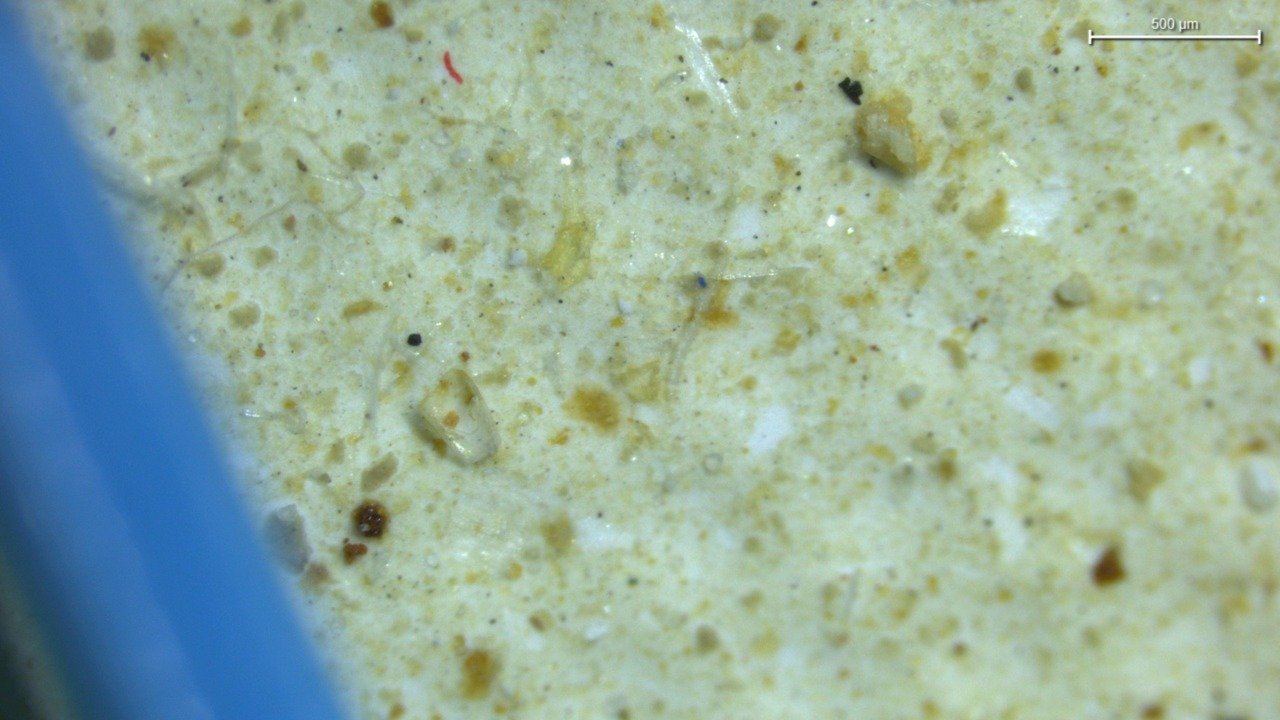microplastic_fragment: (418, 367, 498, 464), (855, 92, 917, 174), (1053, 273, 1093, 308)
